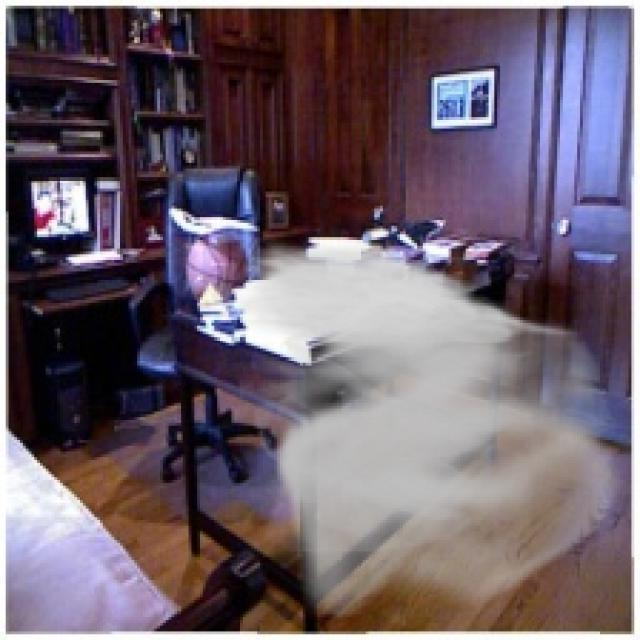Smoke: (228, 237, 632, 617)
